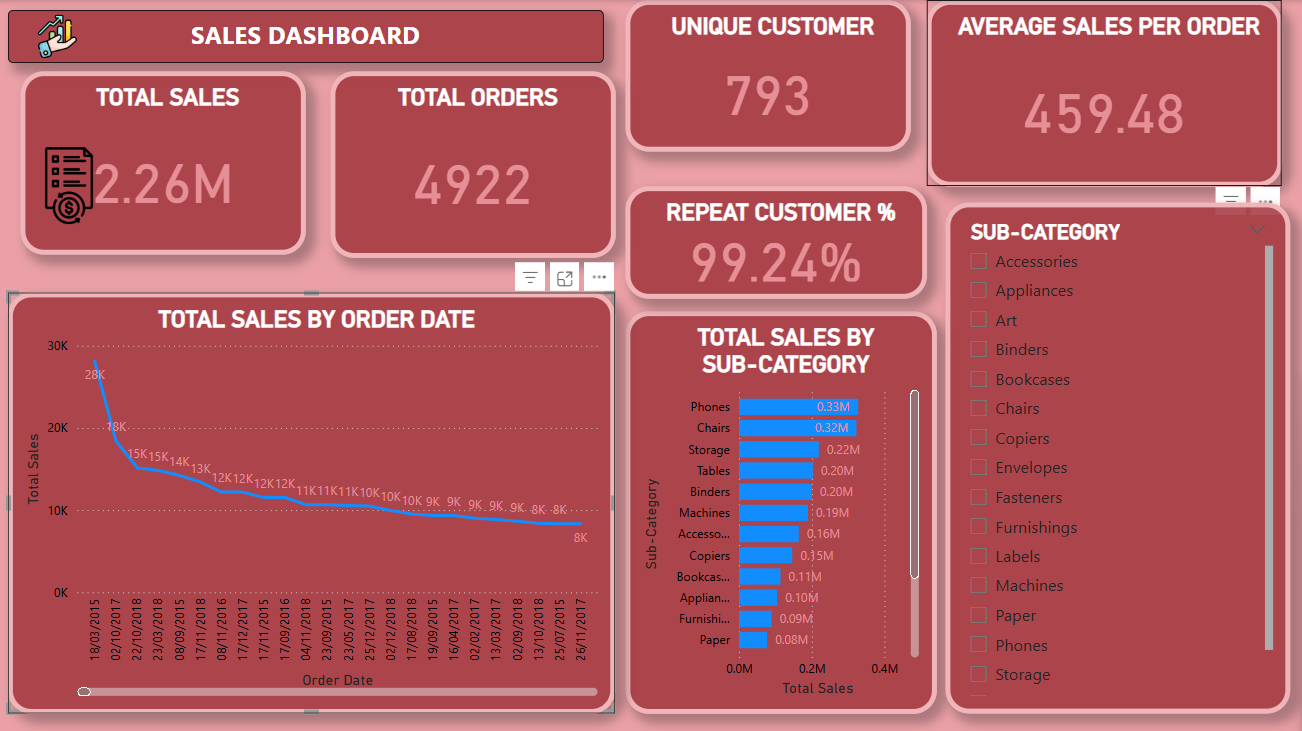

Layout of this report page (visuals, bound fields, positions):
{"tool":"powerbi","page":{"name":"Main dashboard","canvas":[1280,720],"ordinal":0},"visuals":[{"type":"textbox","box":[9.6,9.6,584.6,52.1],"z":2},{"type":"image","box":[9.6,9.6,96.1,52.1],"z":3},{"type":"card","title":"TOTAL SALES","fields":{"Values":["Sales.Total Sales"]},"box":[22.1,69.9,279.8,180.4],"z":4},{"type":"image","box":[22.1,138.7,94.5,87.1],"z":5},{"type":"card","title":"TOTAL ORDERS","fields":{"Values":["Sales.Total Order"]},"box":[326.4,69.9,279.8,182.8],"z":6},{"type":"card","title":"UNIQUE CUSTOMER","fields":{"Values":["Sales.Unique Cust"]},"box":[616,0,279.8,148.5],"z":8},{"type":"card","title":"AVERAGE SALES PER ORDER","fields":{"Values":["Sales.Avg_Sales_per_Order"]},"box":[911.7,0,348.5,182.8],"z":9},{"type":"lineChart","title":"TOTAL SALES BY ORDER DATE","fields":{"Category":["Sales.Order Date"],"Y":["Sales.Total Sales"]},"box":[9.8,287.1,596.3,413.5],"z":10},{"type":"barChart","title":"TOTAL SALES BY SUB-CATEGORY","fields":{"Y":["Sales.Total Sales"],"Category":["Sales.Sub-Category"]},"box":[616,305.5,305.5,395.1],"z":11},{"type":"slicer","fields":{"Values":["Sales.Sub-Category"]},"box":[930.1,198.8,338.7,501.8],"z":12},{"type":"card","title":"REPEAT CUSTOMER %","fields":{"Values":["Sales.Repeat Customer %"]},"box":[616,182.8,295.7,110.4],"z":13}]}

Visuals, with their boxes in screenshot pixels (x1, y1, x2, y2), scaled from the page's 1280x720 canvas onto the 1302x731 screenshot:
textbox: l=10, t=10, r=604, b=63
image: l=10, t=10, r=108, b=63
"TOTAL SALES" card: l=22, t=71, r=307, b=254
image: l=22, t=141, r=119, b=229
"TOTAL ORDERS" card: l=332, t=71, r=617, b=257
"UNIQUE CUSTOMER" card: l=627, t=0, r=911, b=151
"AVERAGE SALES PER ORDER" card: l=927, t=0, r=1282, b=186
"TOTAL SALES BY ORDER DATE" lineChart: l=10, t=291, r=617, b=711
"TOTAL SALES BY SUB-CATEGORY" barChart: l=627, t=310, r=937, b=711
slicer - Sales.Sub-Category: l=946, t=202, r=1291, b=711
"REPEAT CUSTOMER %" card: l=627, t=186, r=927, b=298
